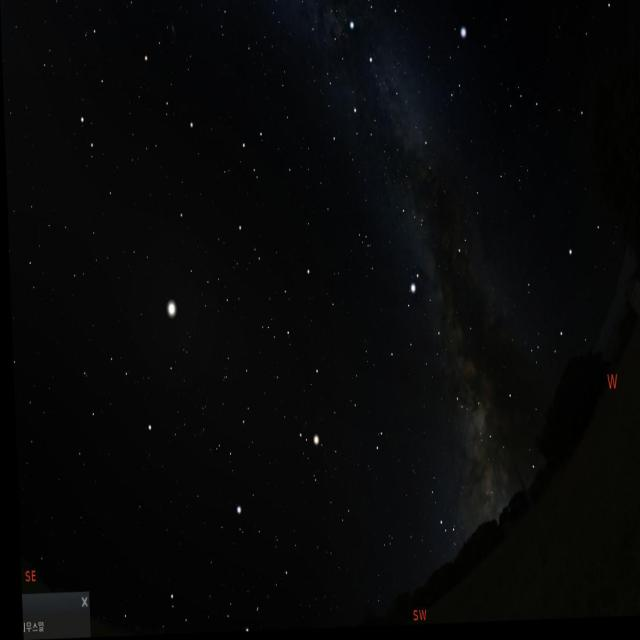aquila: (380, 266, 469, 417)
cygnus: (338, 0, 434, 168)
lyra: (436, 19, 470, 119)
